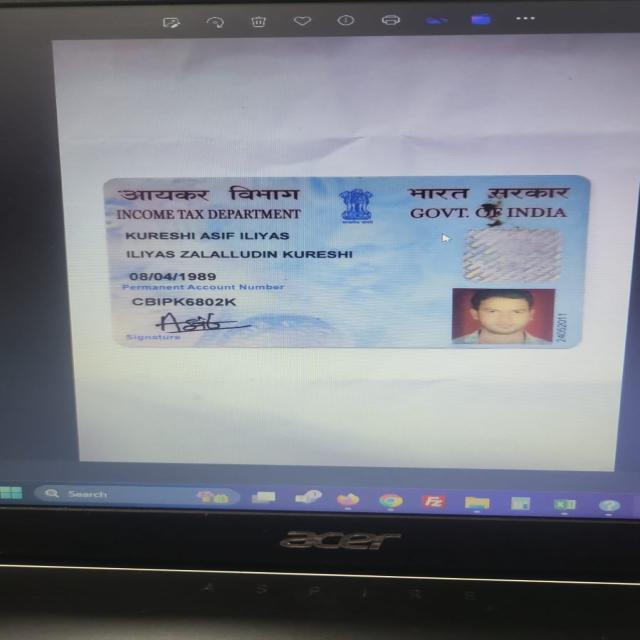pan_card: (100, 175, 600, 347)
